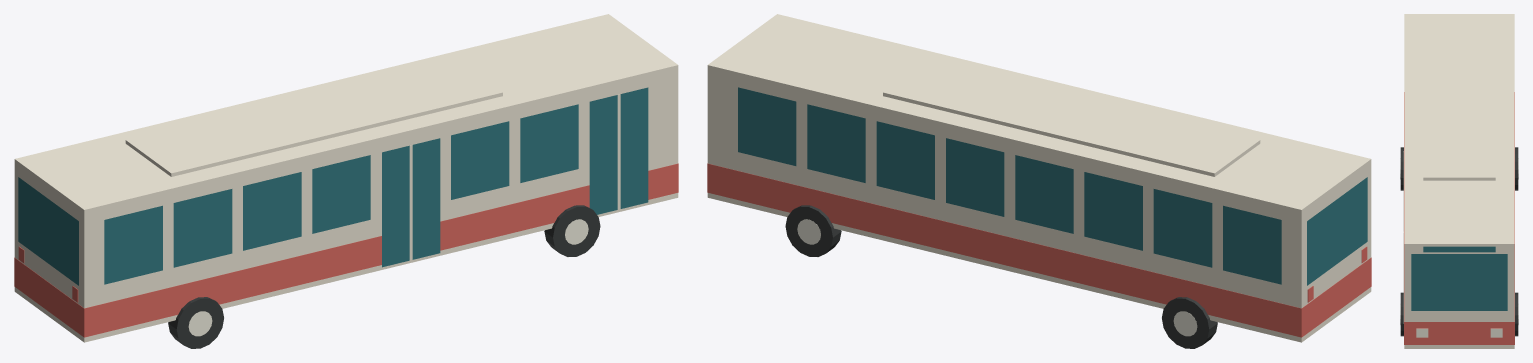
The model's file is bus.gltf.
3 views of the same model, side by side, from view 1: azimuth 30°, elevation 25°; view 2: azimuth 150°, elevation 25°; view 3: azimuth 270°, elevation 25° (orthographic). The views are drawn at different scales.
Visible parts, largest first — view 1: WICI schematic bus; view 2: WICI schematic bus; view 3: WICI schematic bus.
Boxes of the visible parts, <box> form: WICI schematic bus: <box>14,14,678,348</box>; WICI schematic bus: <box>707,14,1371,348</box>; WICI schematic bus: <box>1400,14,1518,348</box>.
Bounding box in the file's own units: 12.05 × 3.25 × 2.6.
